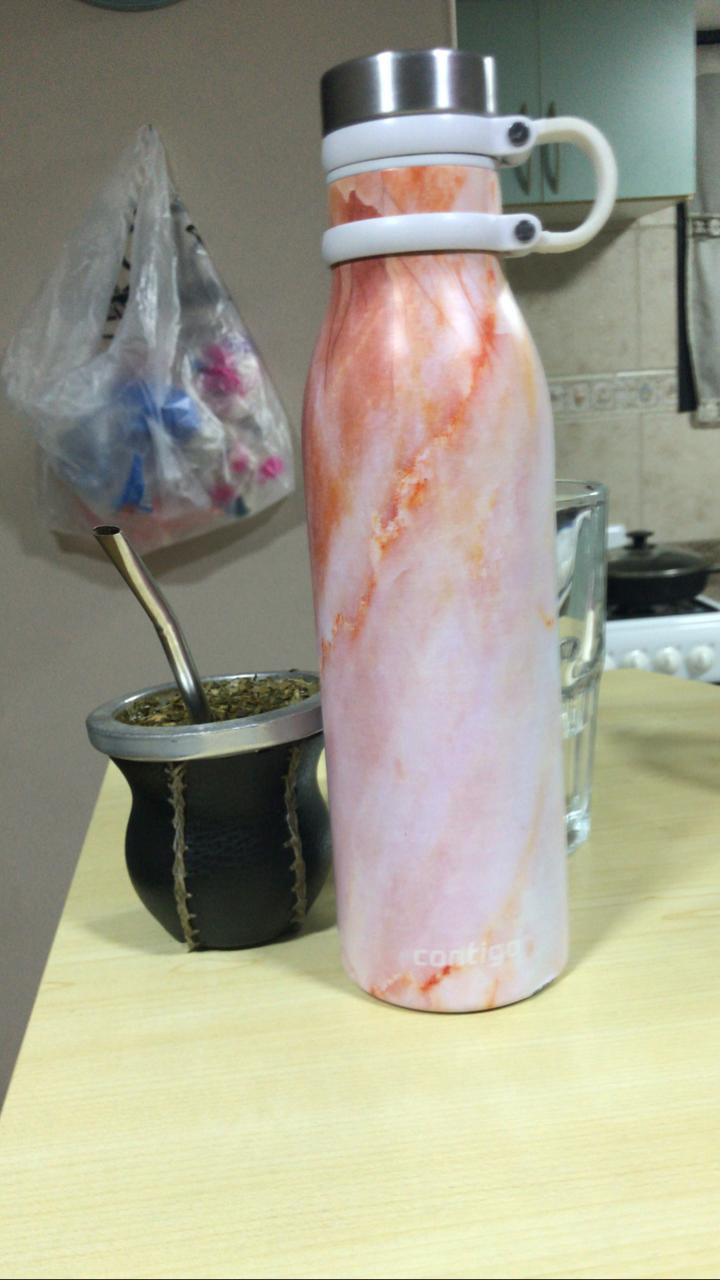mate: (64, 516, 343, 954)
